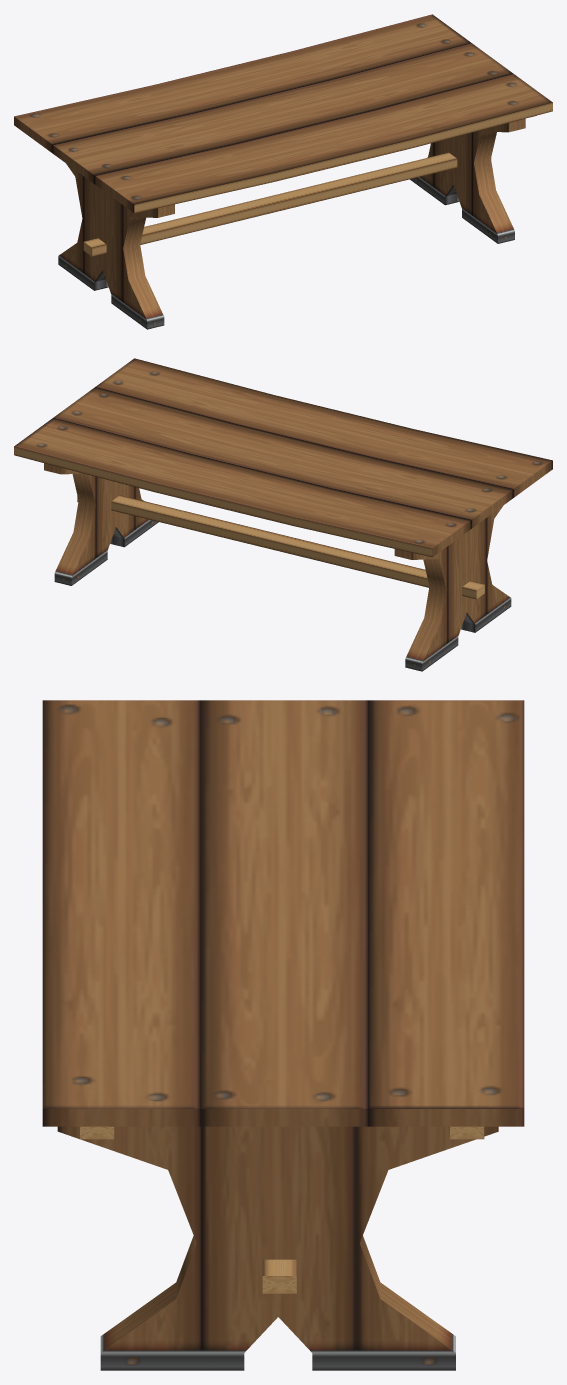
Rendered from Table_02.FBX.
3 renders of one model, top to bottom at view 1: azimuth 30°, elevation 25°; view 2: azimuth 150°, elevation 25°; view 3: azimuth 270°, elevation 25°, orthographic. The views are drawn at different scales.
Visible parts, largest first — view 1: Table_02; view 2: Table_02; view 3: Table_02.
Boxes of the visible parts, x1=… form: Table_02: x1=14, y1=14, x2=552, y2=329; Table_02: x1=14, y1=358, x2=552, y2=671; Table_02: x1=42, y1=700, x2=524, y2=1370.
Bounding box in the file's own units: 2.36 × 0.7661 × 1.18.
